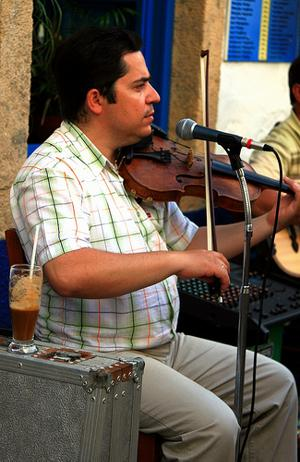person: (10, 26, 299, 462)
